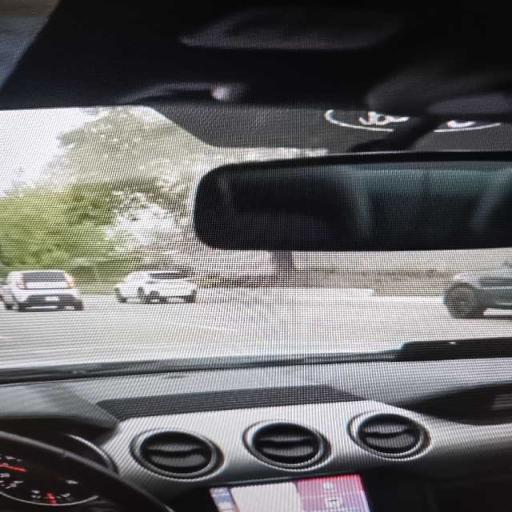car: (444, 262, 511, 318), (3, 270, 83, 311), (115, 271, 197, 303), (0, 280, 5, 300)
lane: (0, 295, 511, 367)
